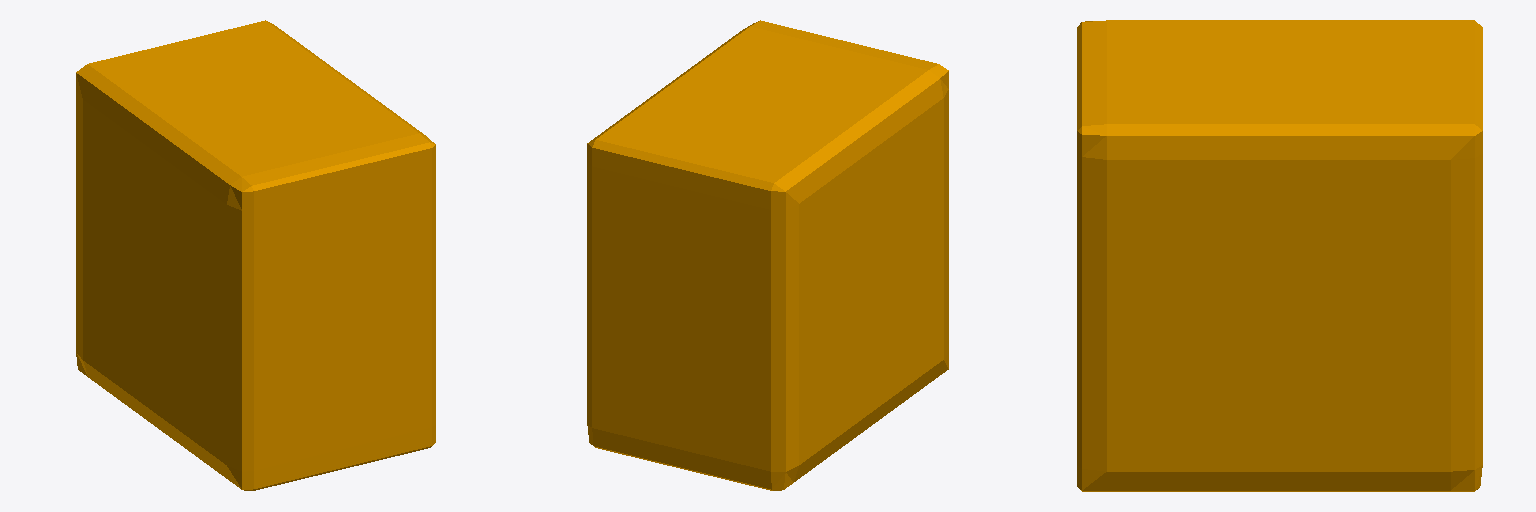
URDF robot description (cylinder_box_2):
<?xml version="1.0" encoding="utf-8"?>  <robot name="cylinder_box_2">   <link name="cylinder_box_2">     <visual>       <geometry>         <mesh filename="../meshes/box/box_2.stl" scale="1 1 1"/>       </geometry>     </visual>     <collision>       <geometry>         <mesh filename="../meshes/box/box_2.stl" scale="1 1 1"/>       </geometry>     </collision>     <inertial>        <origin         xyz="0 0 0"         rpy="0 0 0" />       <mass value="0.38623490830029067"/>       <origin rpy="0 0 0" xyz="0 0 0"/>       <inertia ixx="0.0004338480394258436" ixy="-2.5750914443801704e-08" ixz="-2.233928126526847e-08" iyy="0.0003206244191594438" iyz="-2.2959038401646094e-07" izz="0.0003211404818777039"/>     </inertial>   </link>  </robot>

--- What the picture shows (computed from the rendered views, not written in the file) ---
The picture shows the robot from 3 angles, left to right: view 1: azimuth 30°, elevation 25°; view 2: azimuth 150°, elevation 25°; view 3: azimuth 270°, elevation 25°; orthographic projection.
Robot: cylinder_box_2 — 1 links, 0 joints (none); root link cylinder_box_2; default pose: every joint at zero.
Links seen in each view (by area): view 1: cylinder_box_2; view 2: cylinder_box_2; view 3: cylinder_box_2.
Boxes of the visible links, bbox=[...] form: cylinder_box_2: bbox=[76, 20, 435, 490]; cylinder_box_2: bbox=[587, 20, 948, 490]; cylinder_box_2: bbox=[1077, 20, 1482, 491].
Size in the robot's own frame: 0.0573 by 0.0826 by 0.0825 metres.
1 mesh visuals loaded from 1 distinct referenced files (1 binary STL).